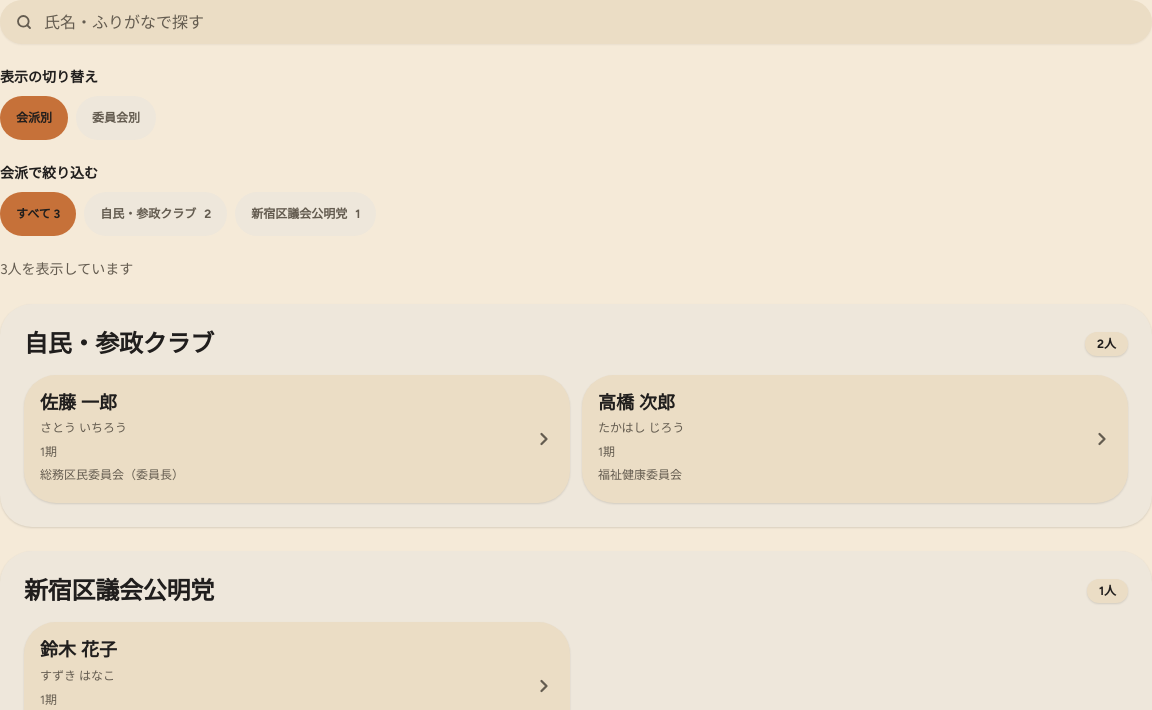
Test: CouncilorListView › 表示を切り替えても検索語が残る
The width and height of the screenshot is (1152, 710).
Step 1. Type "さとう" into the search field → coordinates (576, 22), box [0,0,1151,44]
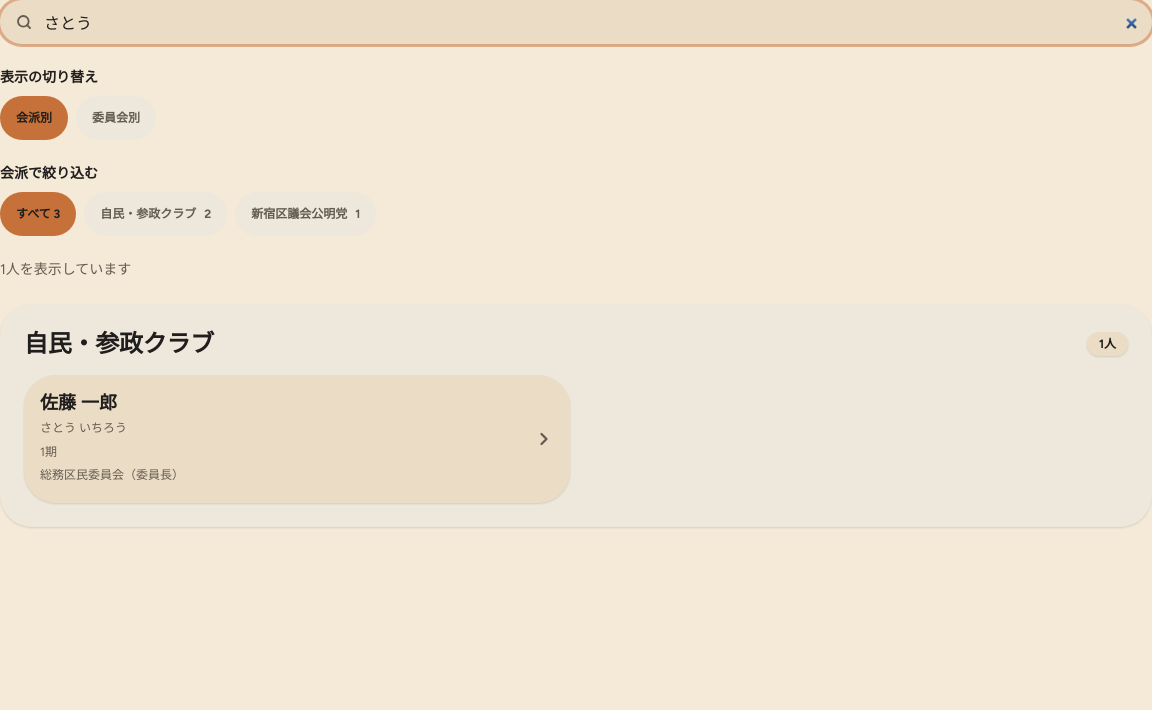
Step 2. Click the button "委員会別" → coordinates (116, 118), box [76,96,156,140]
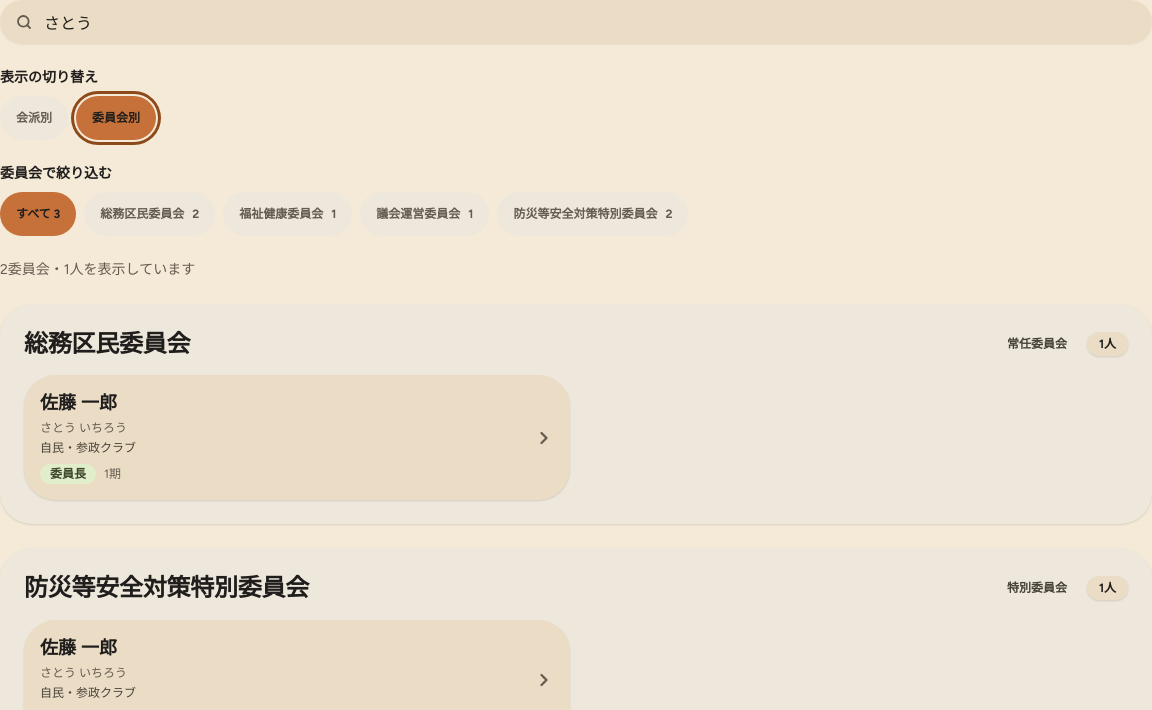
Expected: the text "2委員会・1人を表示しています" is shown, [0,261,195,278]
